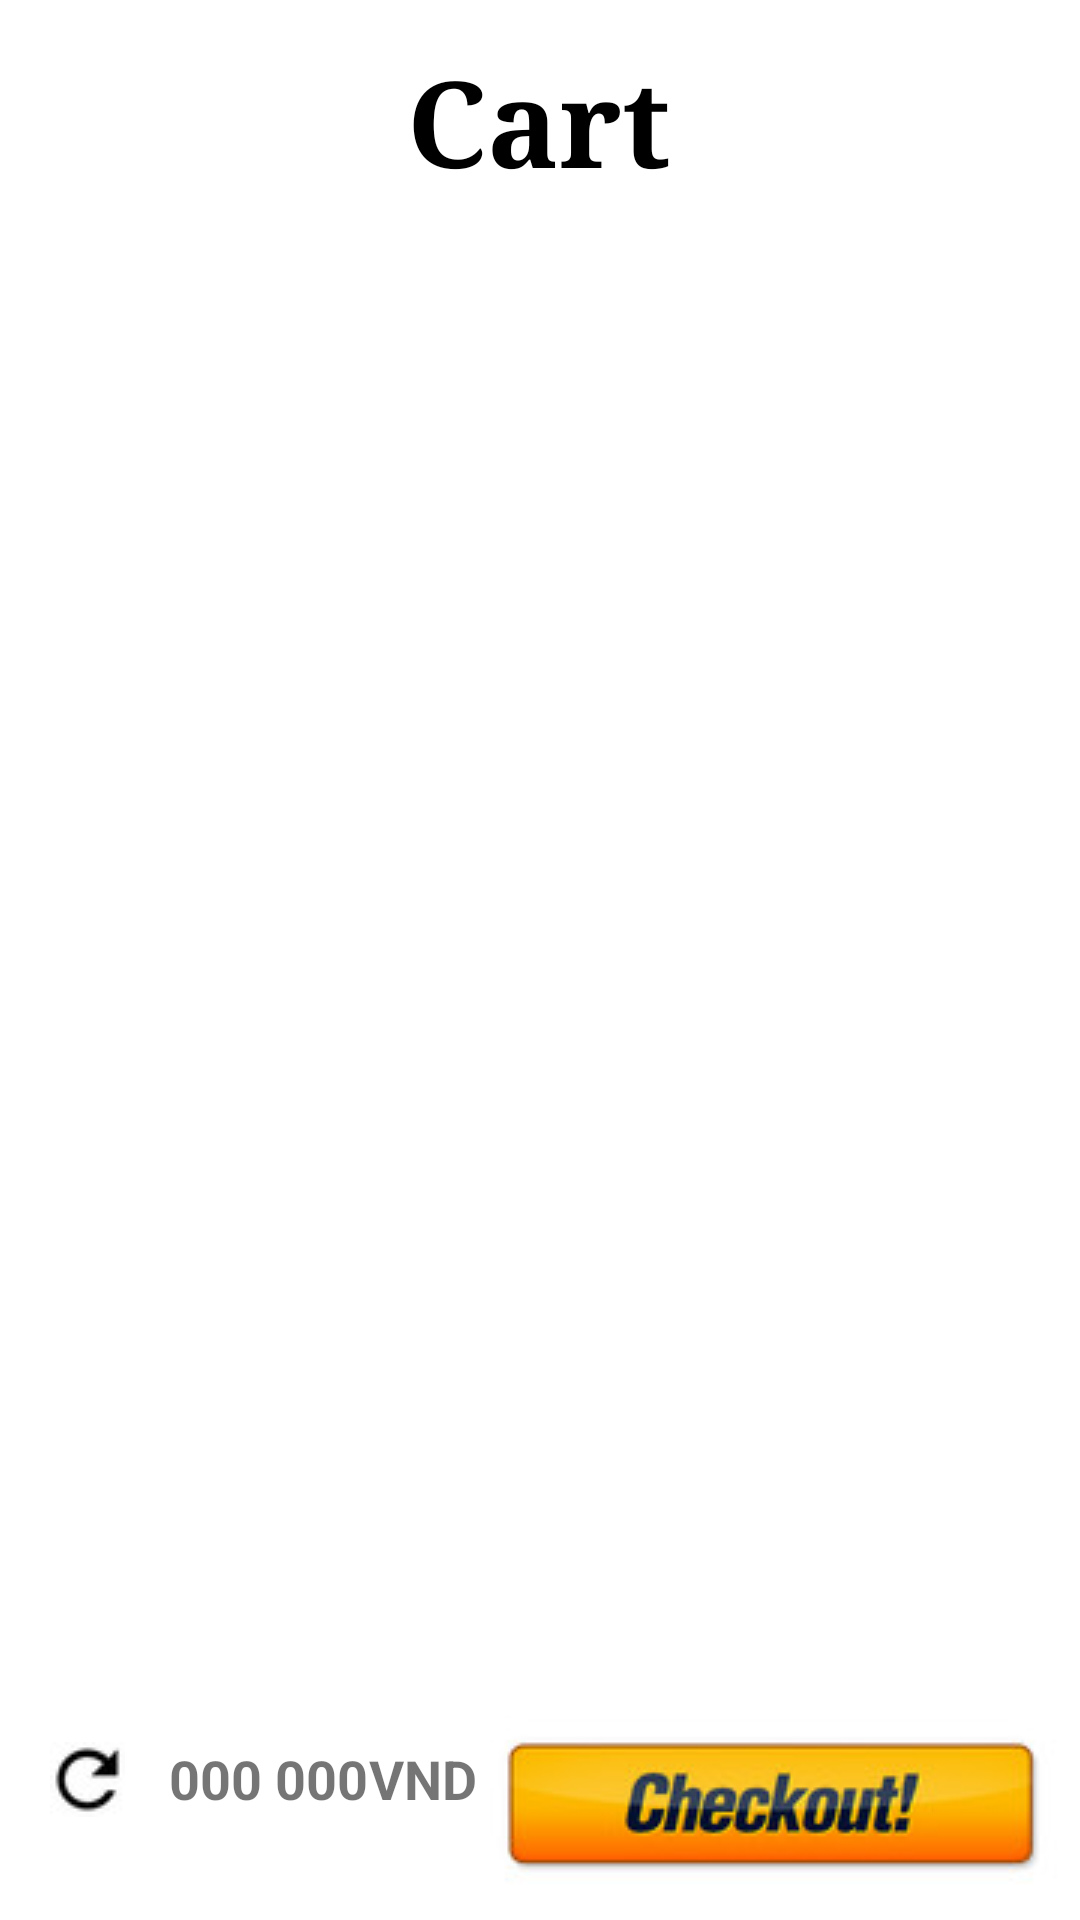

Icons on this 1080 × 1920 Android screen, each with the point to tap as [x,y]:
refresh: [87,1779]
